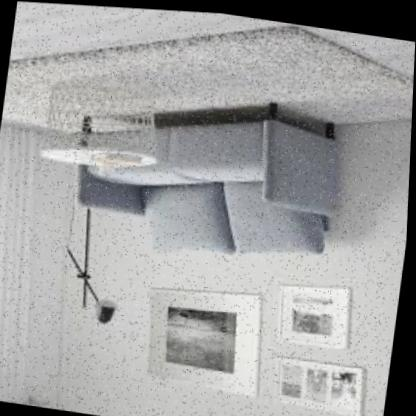Sofa: (42, 61, 369, 295)
